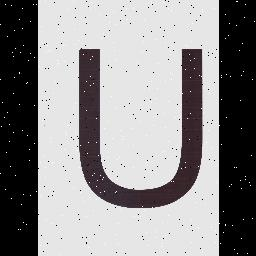u: (71, 44, 207, 216)
